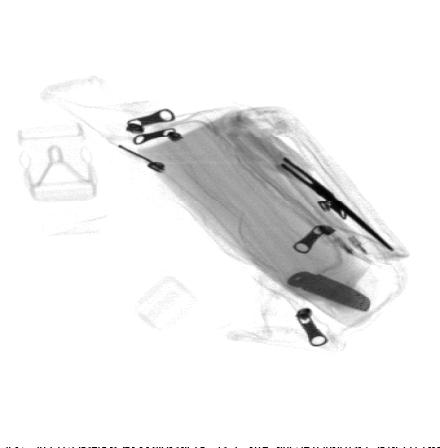Knife: (289, 271, 372, 312)
Scissors: (229, 124, 395, 252)
